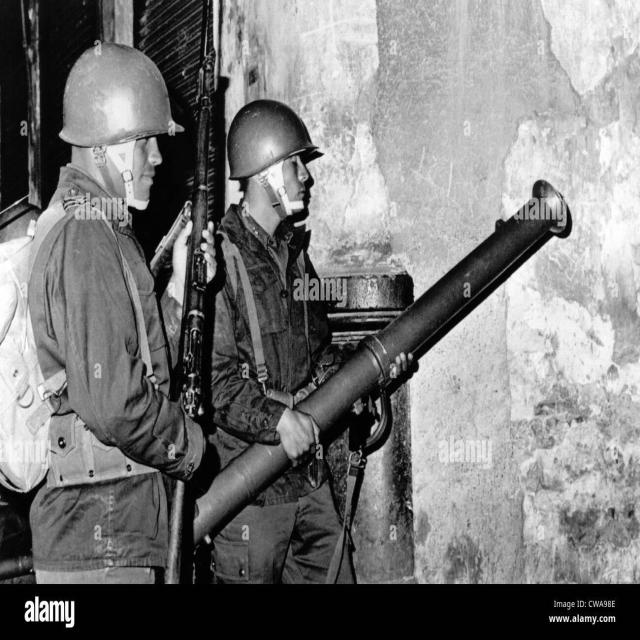bazooka: (185, 182, 578, 567)
